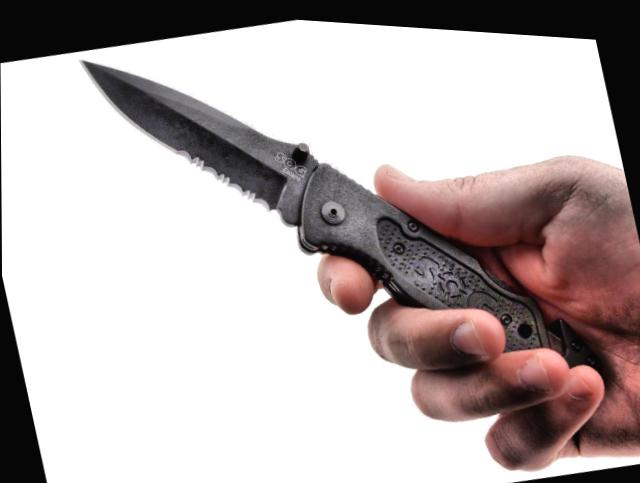knife: (68, 4, 521, 432)
